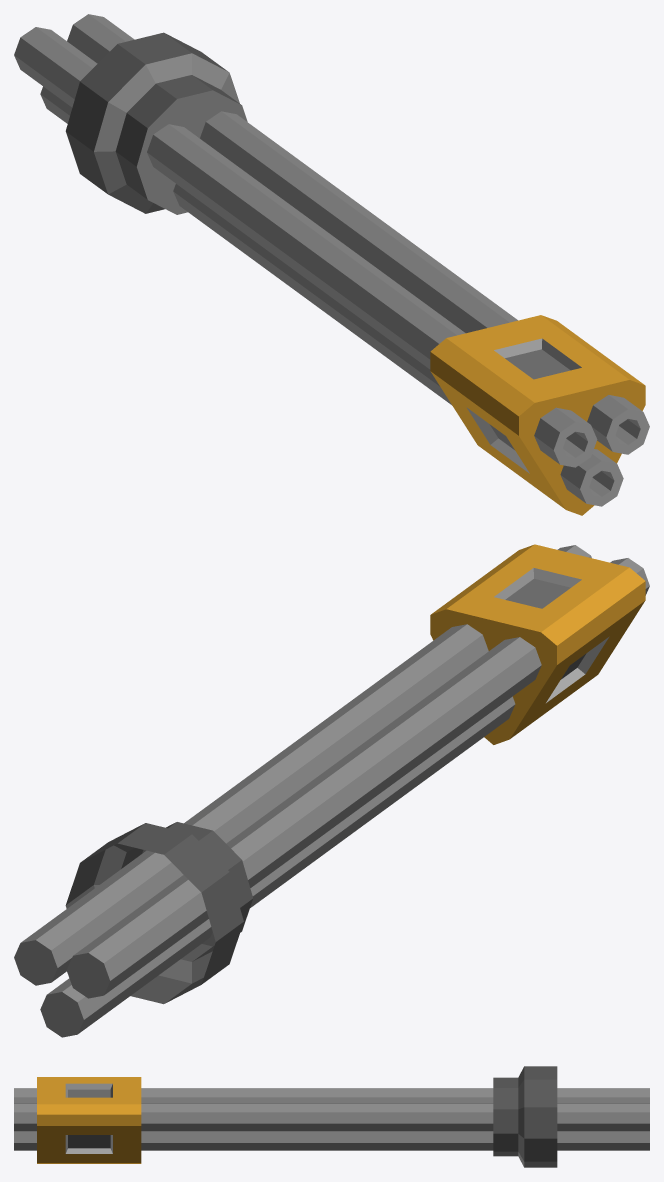
File: minigunBarrel.fbx
3 views of the same model, one above another, from view 1: azimuth 30°, elevation 25°; view 2: azimuth 150°, elevation 25°; view 3: azimuth 270°, elevation 25° (orthographic). The views are drawn at different scales.
Parts seen in each view (by area): view 1: top_minigun_yellow_1.001; view 2: top_minigun_yellow_1.001; view 3: top_minigun_yellow_1.001.
Boxes of the visible parts, x1,y1,x2,y2 form: top_minigun_yellow_1.001: (14, 14, 649, 515); top_minigun_yellow_1.001: (14, 544, 649, 1037); top_minigun_yellow_1.001: (14, 1066, 649, 1167).
Size of the model in its own units: 14.89 by 14.64 by 92.73.
